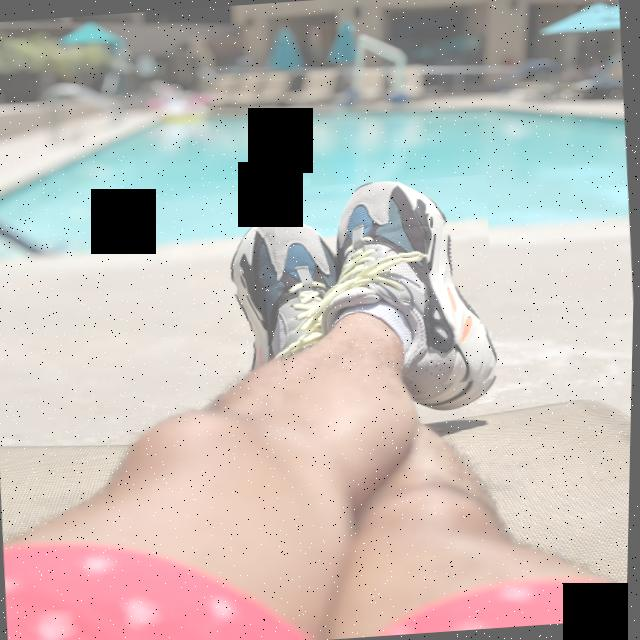shoe: (82, 175, 325, 398), (270, 174, 502, 402)
